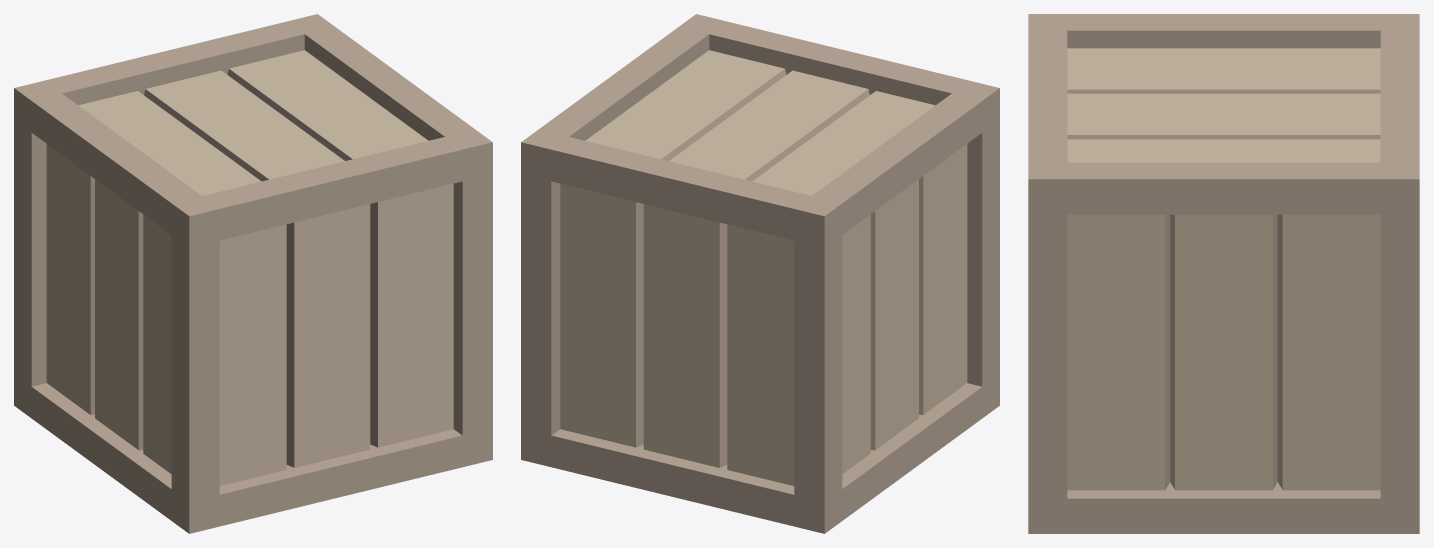
Rendered from object7_013-col.gltf.
The picture shows the model from 3 angles, left to right: view 1: azimuth 30°, elevation 25°; view 2: azimuth 150°, elevation 25°; view 3: azimuth 270°, elevation 25°; orthographic projection. The views are drawn at different scales.
Parts seen in each view (by area): view 1: object7.013-col; view 2: object7.013-col; view 3: object7.013-col.
Part boxes in pixels (<box>): object7.013-col: <box>14,14,492,533</box>; object7.013-col: <box>521,14,999,533</box>; object7.013-col: <box>1028,14,1419,533</box>.
Size of the model in its own units: 1 by 1 by 1.
